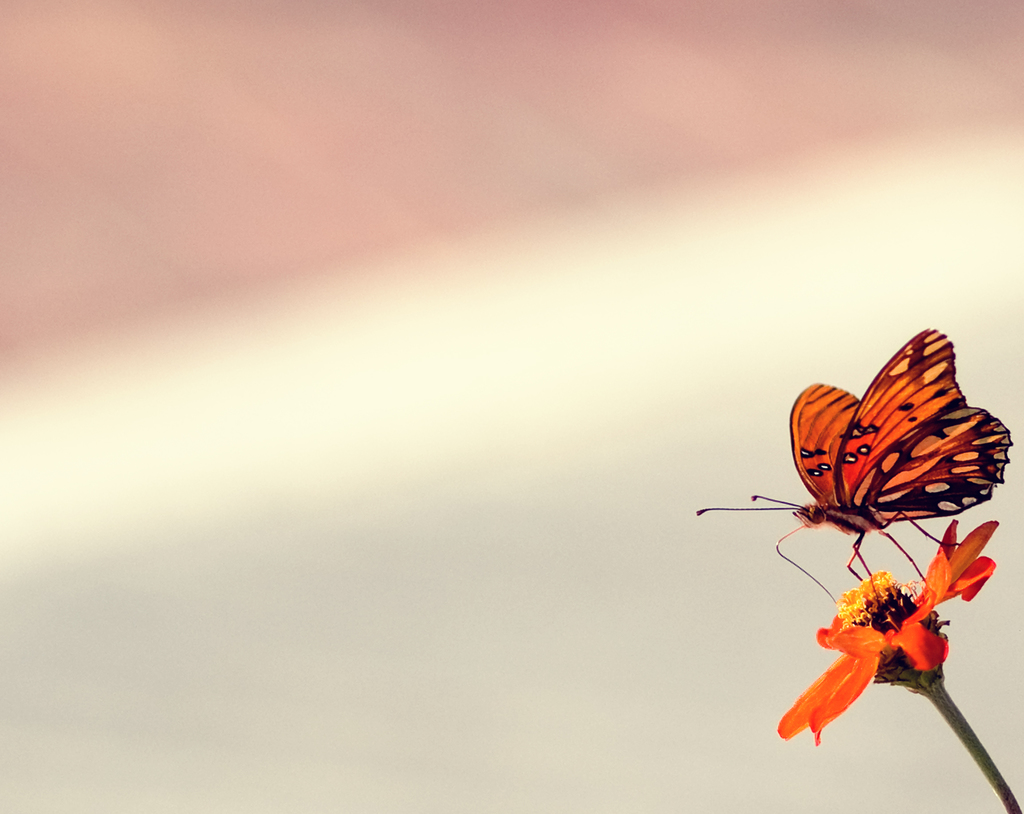Butterfly: (743, 316, 1024, 571)
